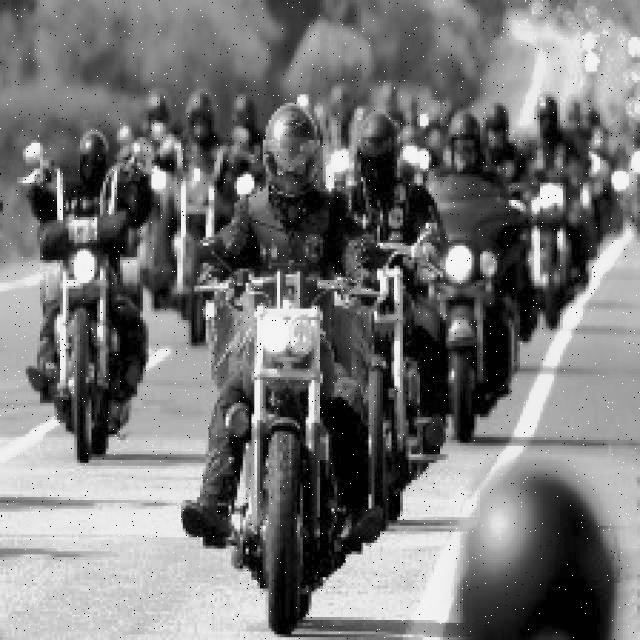Bike: (217, 251, 357, 633), (25, 172, 155, 480), (420, 195, 518, 454)
